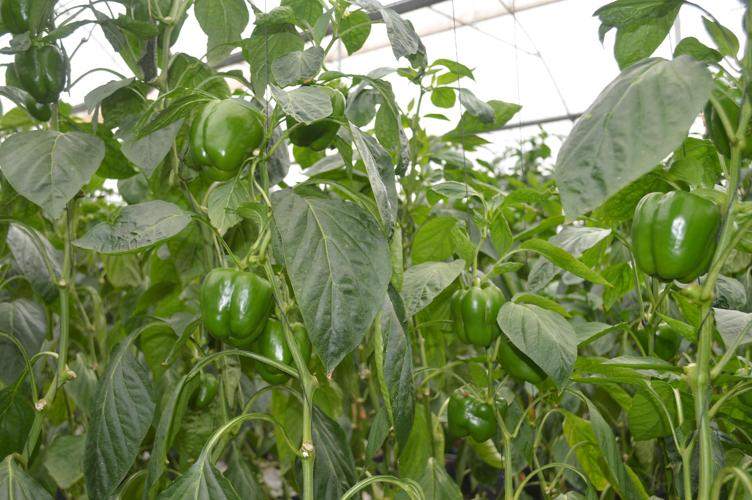BellPepper: (624, 185, 726, 289), (184, 92, 264, 190), (200, 265, 284, 357), (436, 384, 520, 448), (246, 321, 320, 391), (283, 78, 346, 152), (10, 44, 73, 110), (452, 282, 509, 350), (491, 339, 550, 396), (168, 368, 219, 418)
